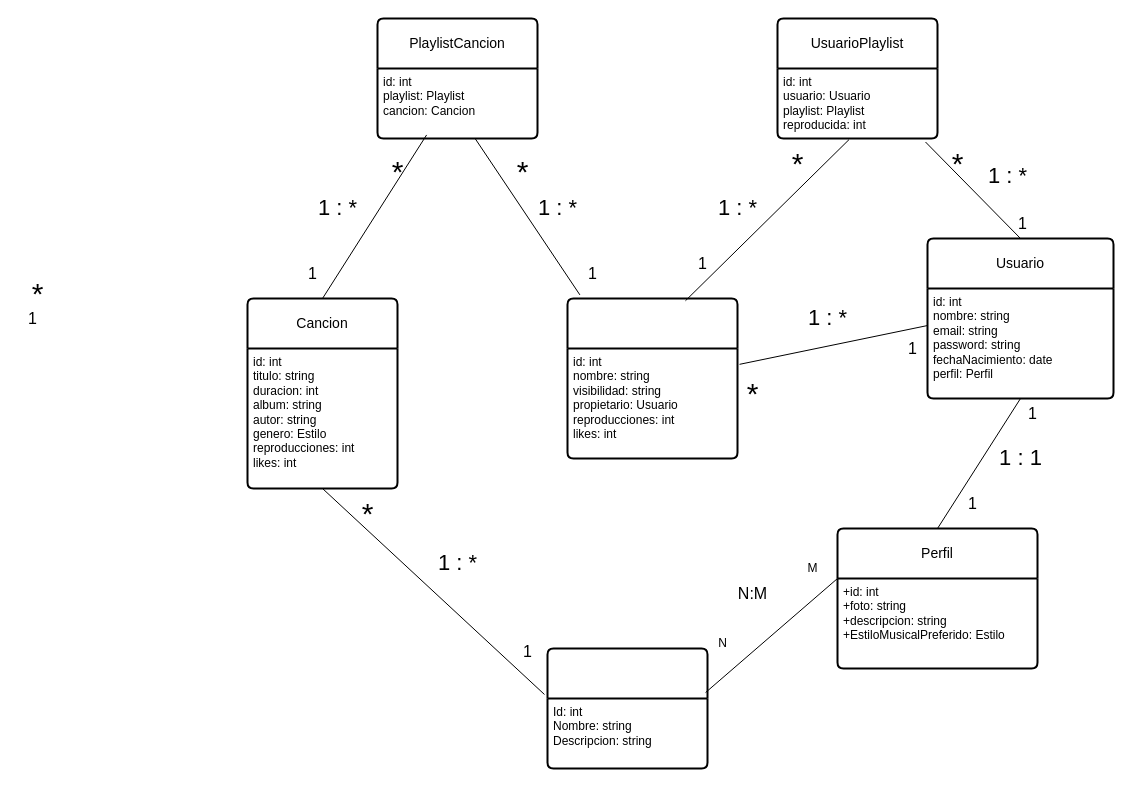
Image size: 1131x786. Some labels were removed from this diagram. Each missing label, with the box of its shape:
Estilo: (546, 647, 708, 769)
Playlist: (566, 297, 738, 459)
